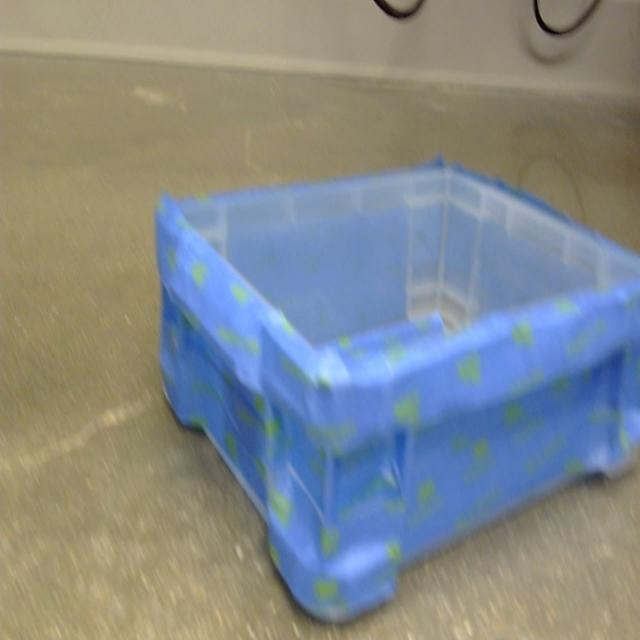bucket: (154, 157, 640, 627)
